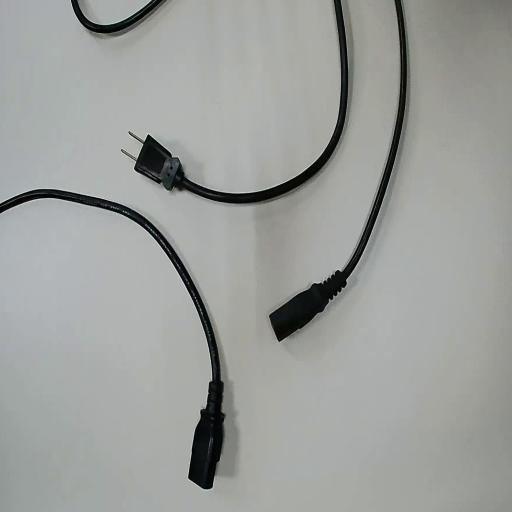wire: (0, 190, 224, 487), (270, 0, 406, 339), (132, 7, 349, 207)
